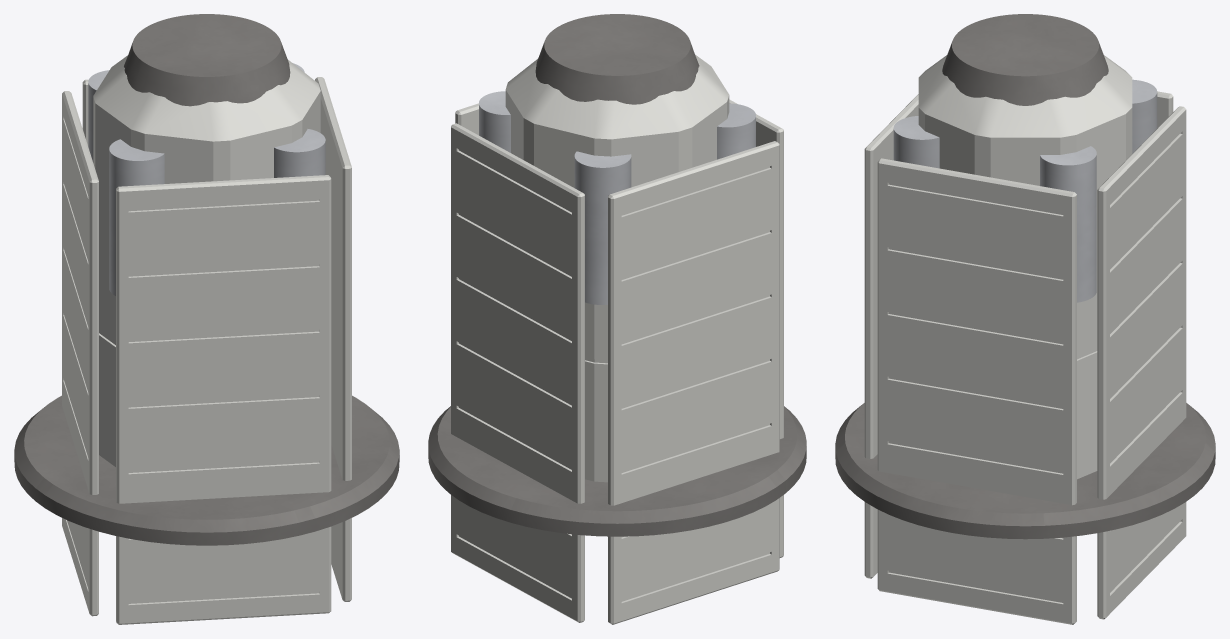
The model's file is ax_power_07_fission_surface_10.glb.
3 views of the same model, side by side, from view 1: azimuth 30°, elevation 25°; view 2: azimuth 150°, elevation 25°; view 3: azimuth 270°, elevation 25° (orthographic).
Parts seen in each view (by area): view 1: panel_radiator_3, deck_mount, reactor_vessel, panel_radiator_2, top_shield, panel_radiator_4, stirling_converters; view 2: panel_radiator_2, panel_radiator_1, reactor_vessel, deck_mount, top_shield, stirling_converters, panel_radiator_3, panel_radiator_4; view 3: panel_radiator_4, panel_radiator_1, reactor_vessel, deck_mount, top_shield, stirling_converters, panel_radiator_3.
Boxes of the visible parts, x1,y1,x2,y2 form: panel_radiator_3: [116, 175, 331, 624]; deck_mount: [14, 395, 399, 545]; reactor_vessel: [93, 55, 320, 466]; panel_radiator_2: [62, 91, 98, 616]; top_shield: [124, 14, 290, 106]; panel_radiator_4: [315, 77, 351, 601]; stirling_converters: [88, 63, 325, 295]; panel_radiator_2: [608, 141, 779, 624]; panel_radiator_1: [451, 123, 584, 622]; reactor_vessel: [505, 54, 729, 482]; deck_mount: [428, 406, 806, 536]; top_shield: [535, 14, 699, 104]; stirling_converters: [479, 91, 755, 304]; panel_radiator_3: [729, 99, 783, 557]; panel_radiator_4: [455, 103, 478, 135]; panel_radiator_4: [877, 158, 1076, 624]; panel_radiator_1: [1097, 106, 1186, 619]; reactor_vessel: [918, 55, 1132, 479]; deck_mount: [835, 403, 1215, 539]; top_shield: [942, 14, 1108, 105]; stirling_converters: [893, 79, 1157, 302]; panel_radiator_3: [864, 94, 918, 578].
Size of the model in its own units: 1.6 by 2.38 by 1.6.
3 materials, 2 textured.
